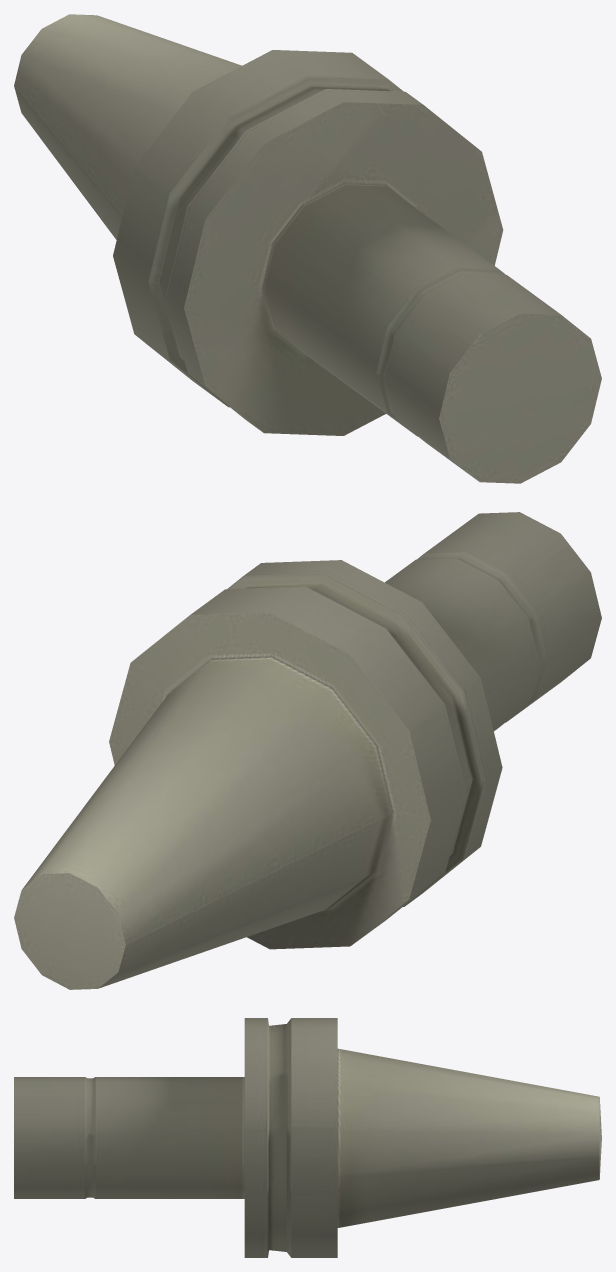
The model's file is Lali_toolholder.glb.
3 views of the same model, one above another, from view 1: azimuth 30°, elevation 25°; view 2: azimuth 150°, elevation 25°; view 3: azimuth 270°, elevation 25° (orthographic). The views are drawn at different scales.
Visible parts, largest first — view 1: toolholder; view 2: toolholder; view 3: toolholder.
Boxes of the visible parts, x1=… form: toolholder: x1=14, y1=14, x2=601, y2=483; toolholder: x1=14, y1=512, x2=601, y2=989; toolholder: x1=14, y1=1018, x2=601, y2=1257.
Bounding box in the file's own units: 0.6024 × 0.6024 × 1.47.
1 material, 1 textured.
